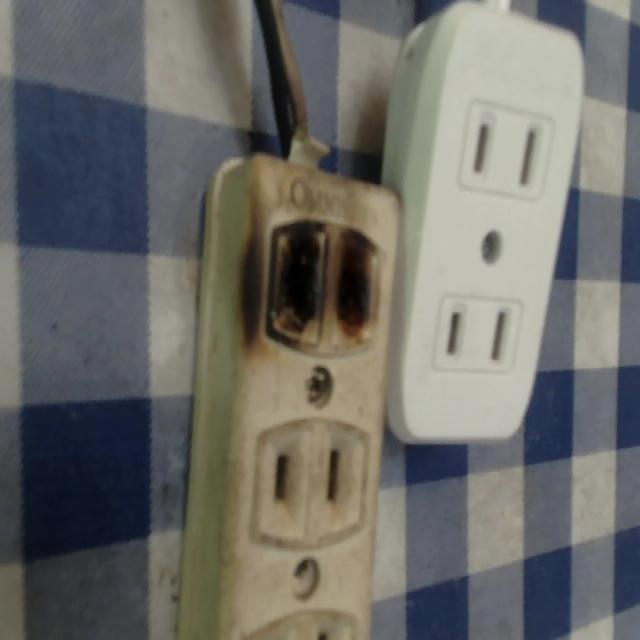-: (254, 192, 385, 361)
